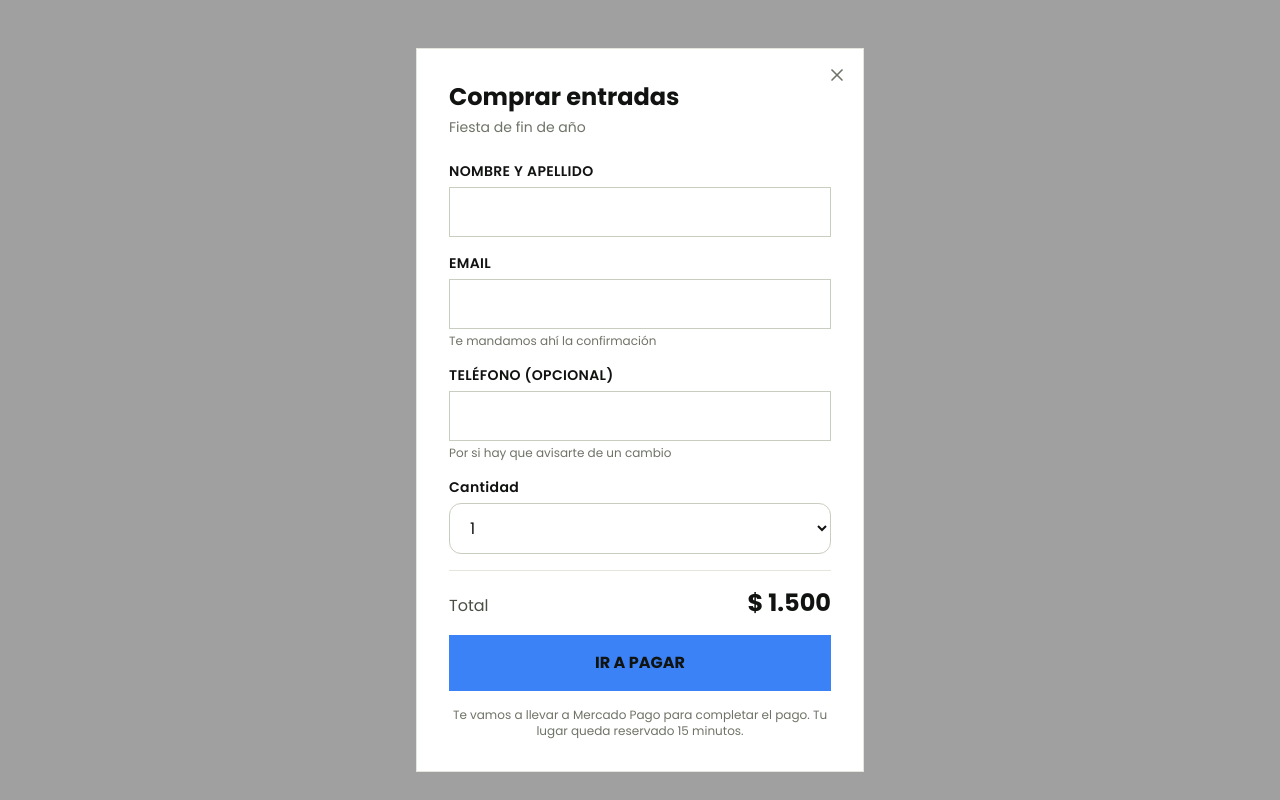
Test case: ComprarEntradas › cuando algo sale mal › muestra el motivo que da el servidor
The image size is (1280, 800).
Type "Ana Gómez" into the field labelled "NOMBRE Y APELLIDO". click: x=640, y=212
box: [449,187,831,237]
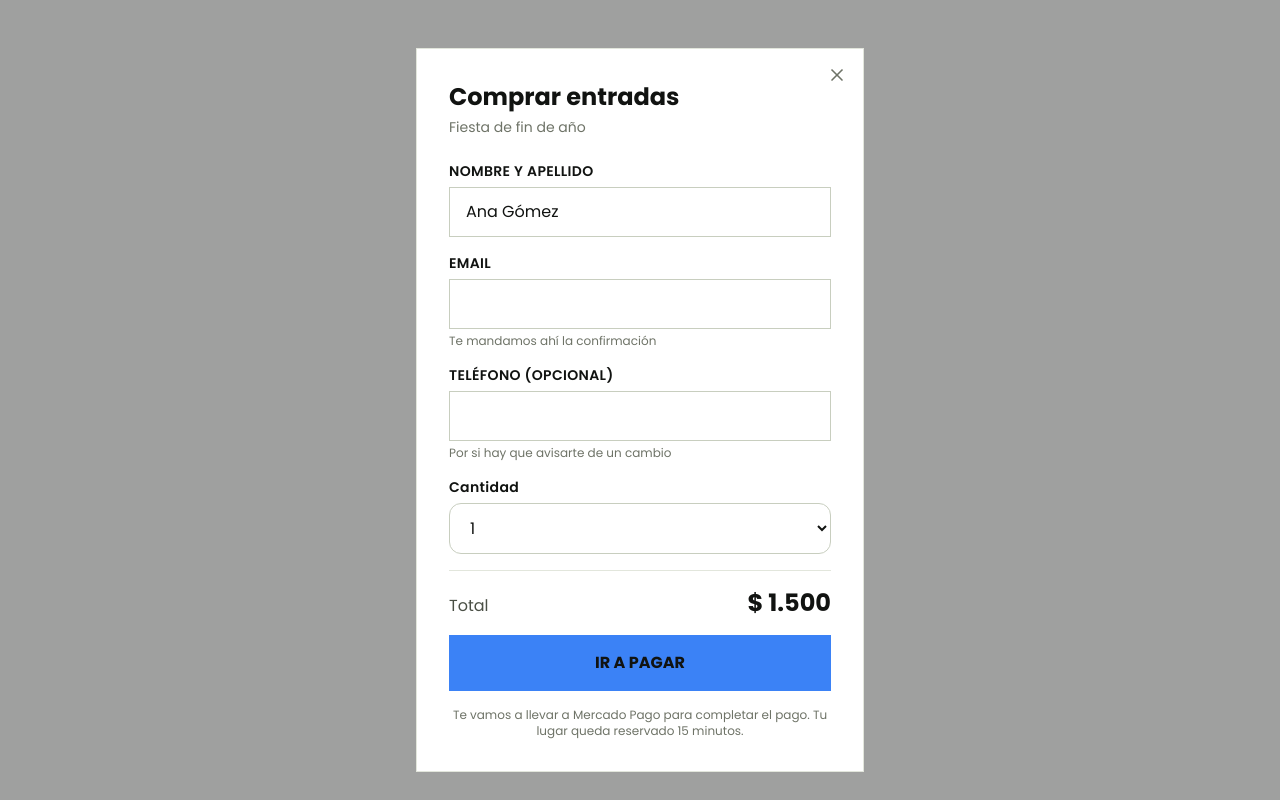
Type "ana@example.com" into the field labelled "EMAIL". click: x=640, y=304
box: [449,279,831,329]
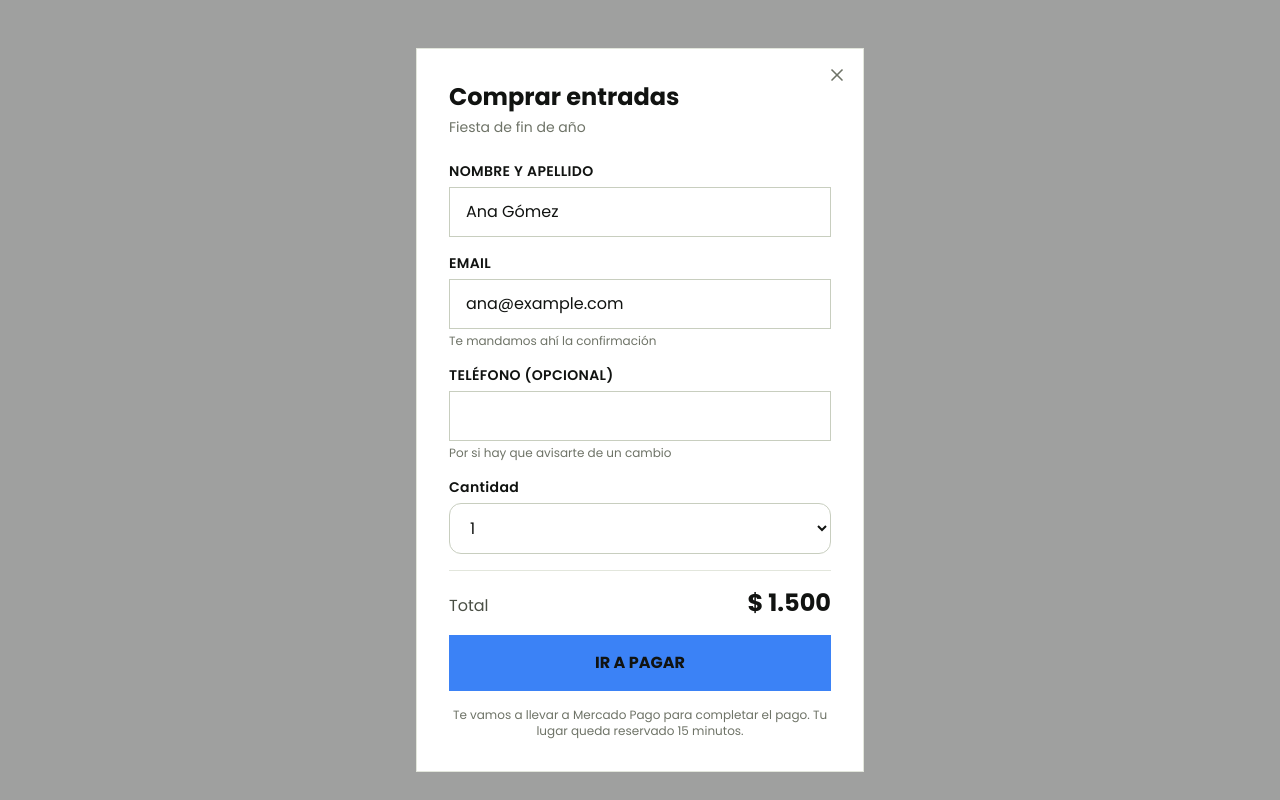
Type "1122334455" into the field labelled "TELÉFONO (OPCIONAL)". click: x=640, y=416
box: [449,391,831,441]
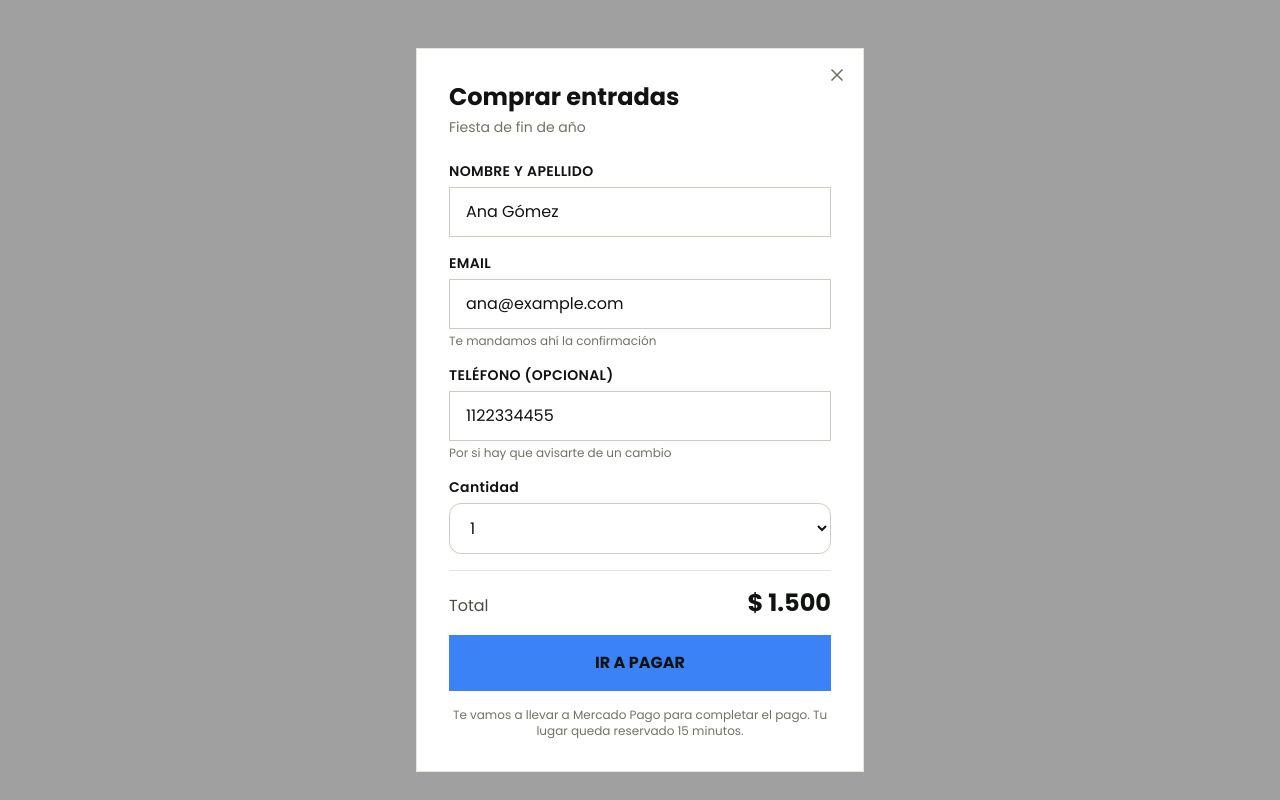
Click the button "IR A PAGAR". click: x=640, y=663
box: [449,635,831,691]
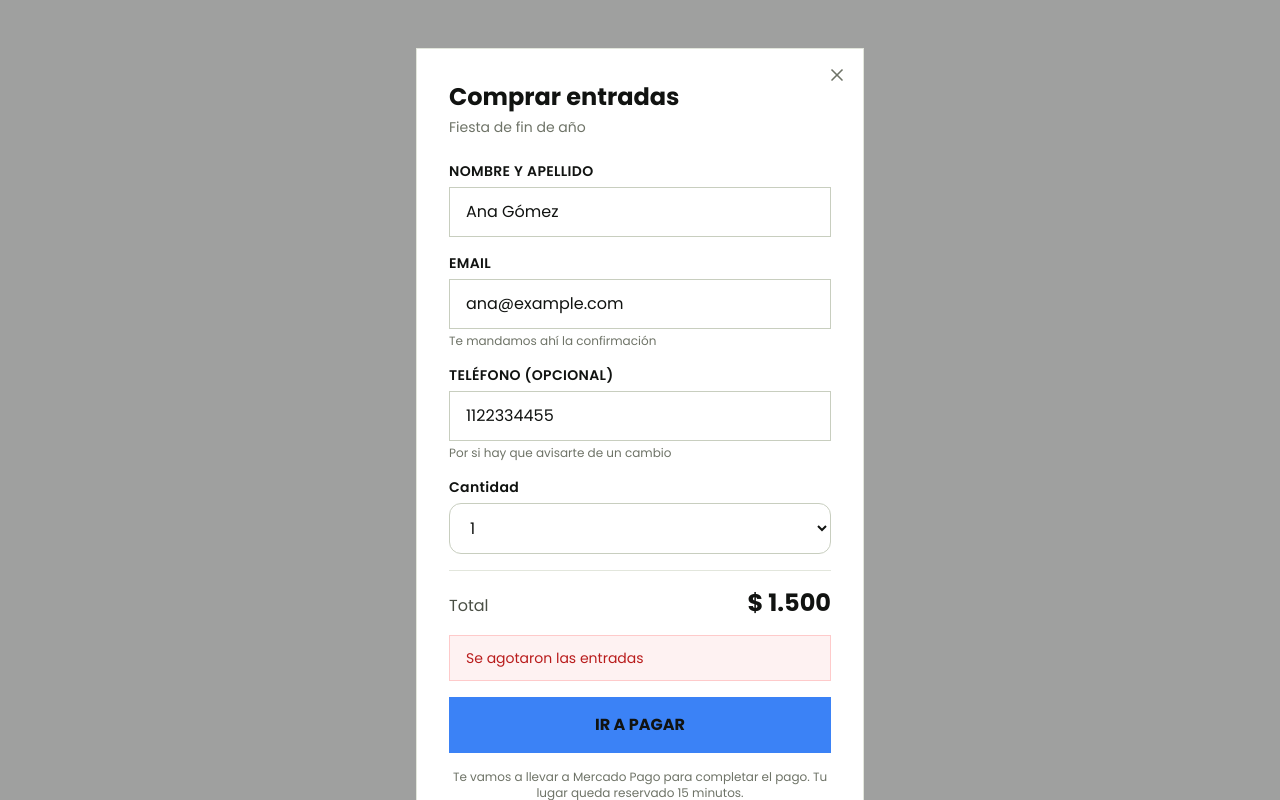
Expected: the text "Se agotaron las entradas" is shown, [449,635,831,681]
